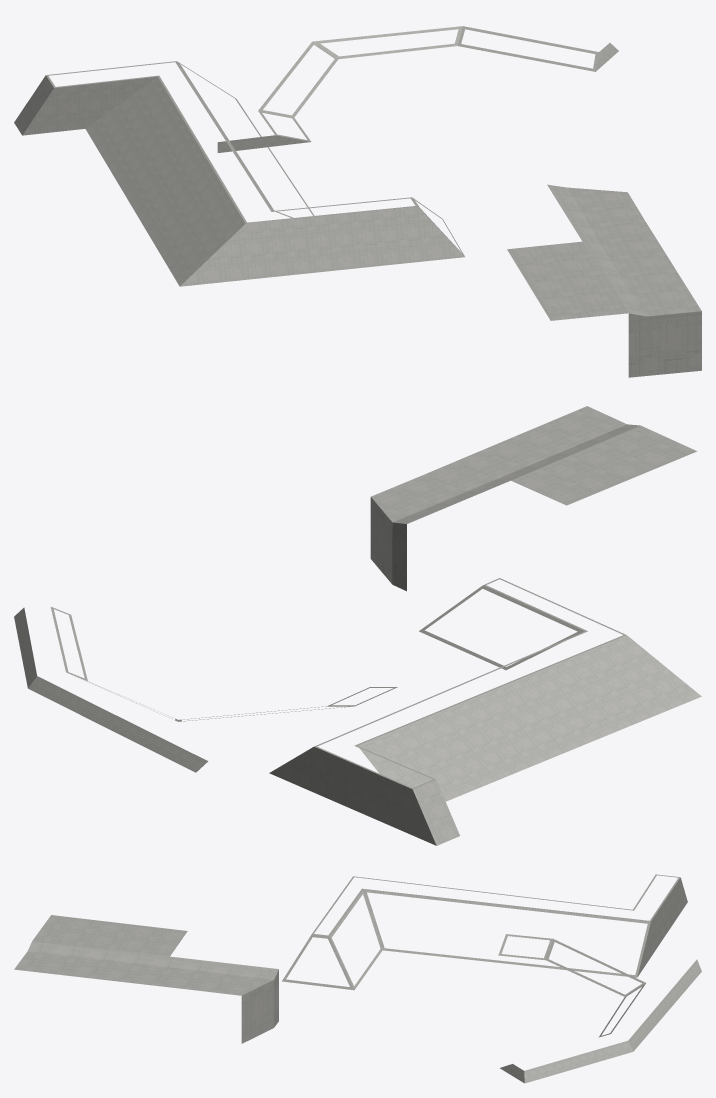
Rendered from kd_stage_1366d7_4_10_bounded.glb.
3 views of the same model, one above another, from view 1: azimuth 30°, elevation 25°; view 2: azimuth 150°, elevation 25°; view 3: azimuth 270°, elevation 25° (orthographic). The views are drawn at different scales.
Parts seen in each view (by area): view 1: kd_stage_1366d7_4_10_bounded; view 2: kd_stage_1366d7_4_10_bounded; view 3: kd_stage_1366d7_4_10_bounded.
Boxes of the visible parts, <box> form: kd_stage_1366d7_4_10_bounded: <box>14,26,701,377</box>; kd_stage_1366d7_4_10_bounded: <box>14,406,701,845</box>; kd_stage_1366d7_4_10_bounded: <box>14,874,701,1083</box>.
Size of the model in its own units: 290 by 32.51 by 389.
Materials: 1 (1 with a texture image).
